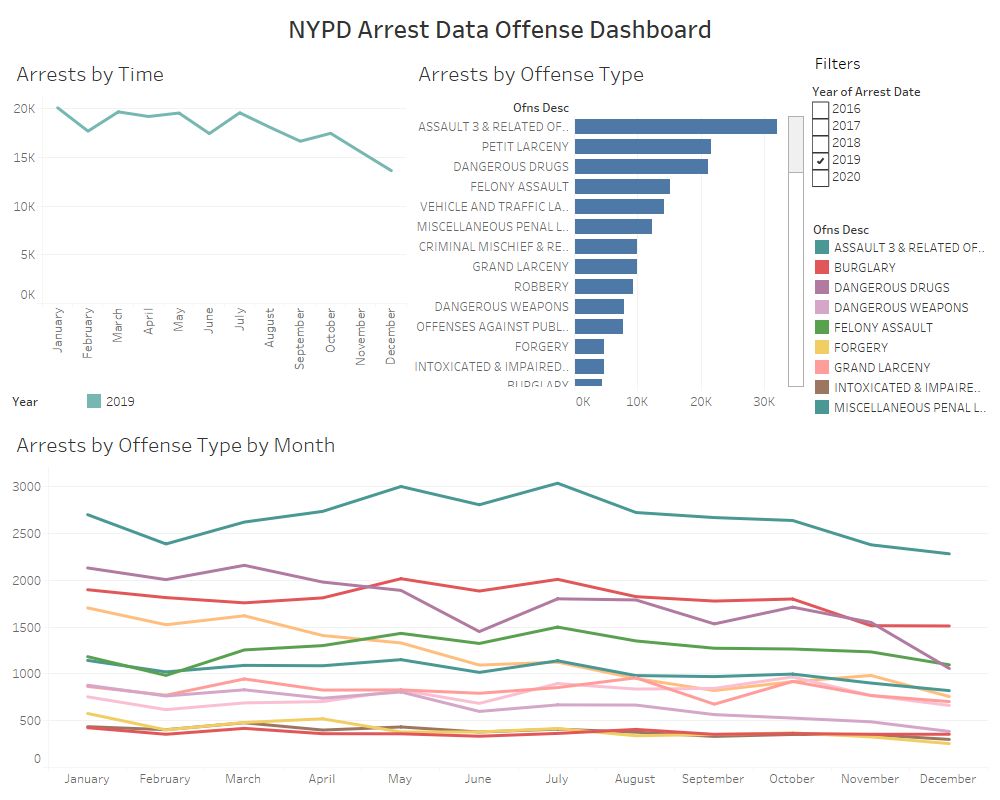

The dashboard page shown, as its layout file describes it:
{"tool":"tableau","page":{"name":"NYPD Arrest Data Offense Dashboard","canvas":[1000,800],"ordinal":1},"visuals":[{"type":"title","box":[8,8,984,41]},{"type":"worksheet","title":"Arrests by Time","mark":"Line","rows":["ARREST_DATE"],"cols":["ARREST_DATE"],"box":[8,49,402,338.4]},{"type":"worksheet","title":"Arrests by Offense Type","mark":"Automatic","rows":["OFNS_DESC"],"cols":["ARREST_DATE"],"box":[410,49,398,371.5]},{"type":"text","box":[808,49,184,29]},{"type":"filter","title":"Arrests by Offense Type by Month","param":"[federated.0u0g2jr0y9b0lh1fggo9v036ljvq].[yr:ARREST_DATE:ok]","box":[808,78,184,147]},{"type":"legend","title":"Arrests by Offense Type by Month","param":"[federated.0u0g2jr0y9b0lh1fggo9v036ljvq].[none:OFNS_DESC:nk]","box":[808,225,184,195.5]},{"type":"legend","title":"Arrests by Time","param":"[federated.0u0g2jr0y9b0lh1fggo9v036ljvq].[yr:ARREST_DATE:ok]","box":[8,387.4,402,33]},{"type":"worksheet","title":"Arrests by Offense Type by Month","mark":"Automatic","rows":["ARREST_DATE"],"cols":["ARREST_DATE"],"box":[8,420.5,984,371.5]}]}

Visuals, with their boxes in screenshot pixels (x1, y1, x2, y2), scaled from the page's 1000x800 canvas onto the 1000x800 screenshot:
title: rect(8, 8, 992, 49)
"Arrests by Time" worksheet (Line marks): rect(8, 49, 410, 387)
"Arrests by Offense Type" worksheet: rect(410, 49, 808, 420)
text: rect(808, 49, 992, 78)
"Arrests by Offense Type by Month" filter: rect(808, 78, 992, 225)
"Arrests by Offense Type by Month" legend: rect(808, 225, 992, 420)
"Arrests by Time" legend: rect(8, 387, 410, 420)
"Arrests by Offense Type by Month" worksheet: rect(8, 420, 992, 792)
